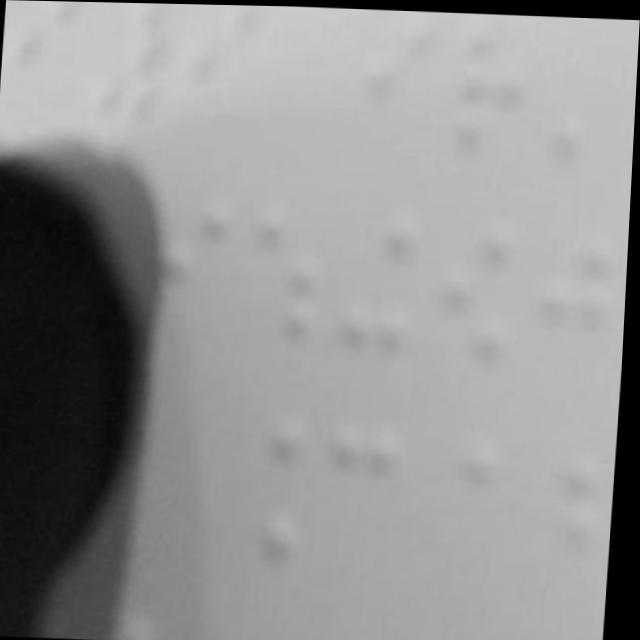braiile: (215, 416, 313, 585), (317, 421, 409, 593), (414, 430, 506, 599), (516, 443, 611, 606), (426, 212, 520, 371), (235, 205, 329, 364), (326, 209, 420, 363), (145, 199, 234, 361), (350, 7, 445, 158), (442, 10, 533, 161), (534, 223, 621, 374), (178, 3, 272, 141), (0, 0, 80, 129)
